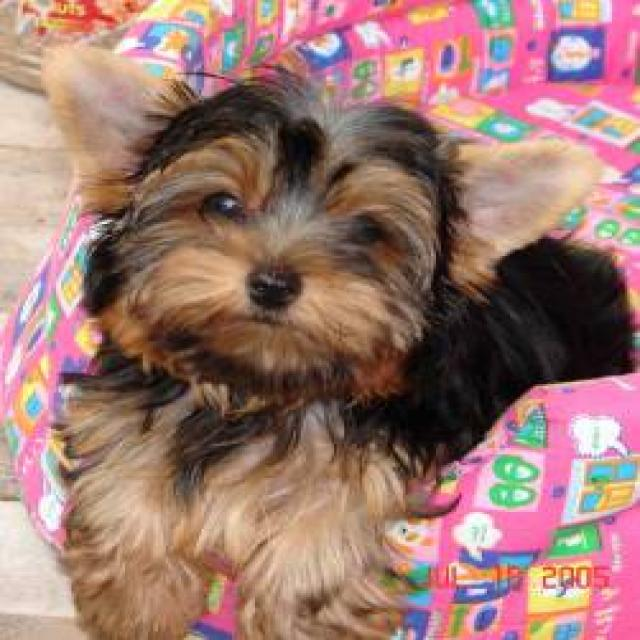dog-yorkshire_terrier: (25, 30, 635, 636)
